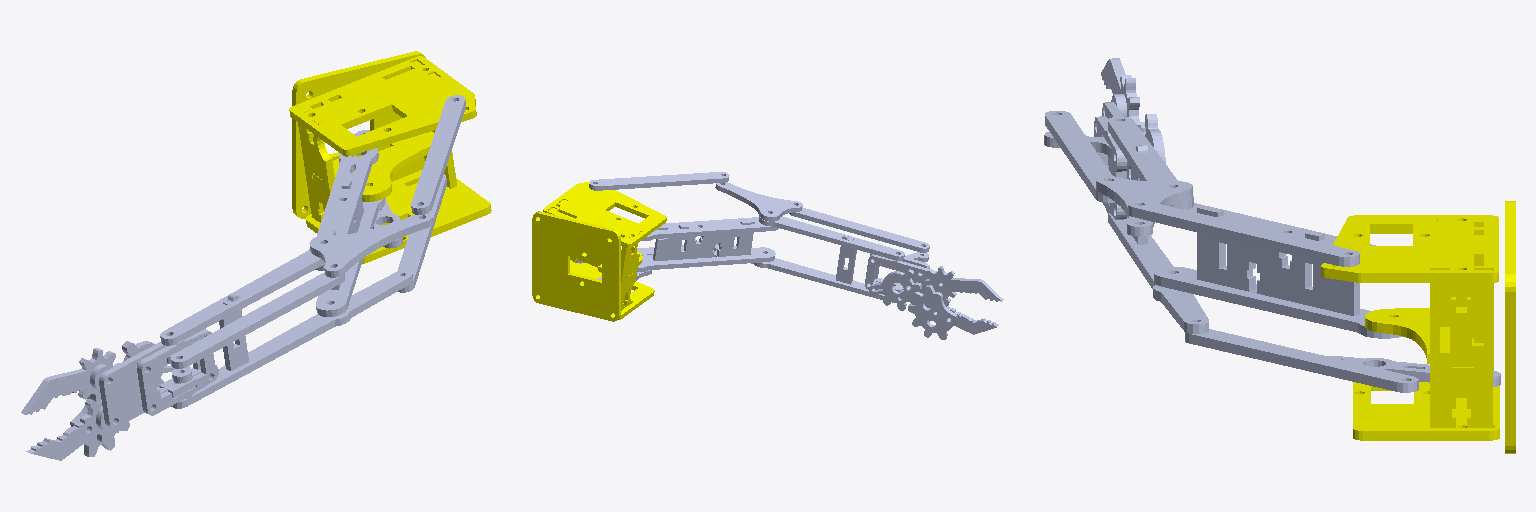
The robot description file, URDF, robot "27URDF ROBOT ARM 4DOF ASSY.SLDASM":
<?xml version="1.0" encoding="utf-8"?>
<!-- This URDF was automatically created by SolidWorks to URDF Exporter! Originally created by [author] ([email redacted]) 
     Commit Version: 1.6.0-4-g7f85cfe  Build Version: 1.6.7995.38578
     For more information, please see http://wiki.ros.org/sw_urdf_exporter -->
<robot
  name="27URDF ROBOT ARM 4DOF ASSY.SLDASM">
  <link
    name="BASE INICIAL">
    <inertial>
      <origin
        xyz="-0.0798549789057355 -0.0269999999999893 0.0435864030122886"
        rpy="0 0 0" />
      <mass
        value="0.00908679690130329" />
      <inertia
        ixx="2.73612316755863E-06"
        ixy="-1.97113011013457E-22"
        ixz="-9.07084976474116E-10"
        iyy="5.39935024141699E-06"
        iyz="8.23337854726788E-23"
        izz="2.67685726921031E-06" />
    </inertial>
    <visual>
      <origin
        xyz="0 0 0"
        rpy="0 0 0" />
      <geometry>
        <mesh
          filename="package://27URDF ROBOT ARM 4DOF ASSY.SLDASM/meshes/BASE INICIAL.STL" />
      </geometry>
      <material
        name="">
        <color
          rgba="1 1 0 1" />
      </material>
    </visual>
    <collision>
      <origin
        xyz="0 0 0"
        rpy="0 0 0" />
      <geometry>
        <mesh
          filename="package://27URDF ROBOT ARM 4DOF ASSY.SLDASM/meshes/BASE INICIAL.STL" />
      </geometry>
    </collision>
  </link>
  <link
    name="LINK_1">
    <inertial>
      <origin
        xyz="0.000387702097878515 -0.00019471799501896 0.0175224067893162"
        rpy="0 0 0" />
      <mass
        value="0.0304519208079881" />
      <inertia
        ixx="6.58798506330231E-06"
        ixy="-5.84616903765165E-07"
        ixz="1.66832315919343E-07"
        iyy="1.03445960653602E-05"
        iyz="2.59537162201257E-08"
        izz="1.11297722031527E-05" />
    </inertial>
    <visual>
      <origin
        xyz="0 0 0"
        rpy="0 0 0" />
      <geometry>
        <mesh
          filename="package://27URDF ROBOT ARM 4DOF ASSY.SLDASM/meshes/LINK_1.STL" />
      </geometry>
      <material
        name="">
        <color
          rgba="1 1 0 1" />
      </material>
    </visual>
    <collision>
      <origin
        xyz="0 0 0"
        rpy="0 0 0" />
      <geometry>
        <mesh
          filename="package://27URDF ROBOT ARM 4DOF ASSY.SLDASM/meshes/LINK_1.STL" />
      </geometry>
    </collision>
  </link>
  <joint
    name="JOIN_1"
    type="revolute">
    <origin
      xyz="-0.0798549789057355 -0.0254999999999893 0.0435864030122886"
      rpy="-1.5707963267949 0 -3.14159265358979" />
    <parent
      link="BASE INICIAL" />
    <child
      link="LINK_1" />
    <axis
      xyz="0 0 1" />
    <limit
      lower="0"
      upper="3.142"
      effort="300"
      velocity="3" />
  </joint>
  <link
    name="LINK_2">
    <inertial>
      <origin
        xyz="0.0113712939819302 0.0014999999999981 -0.00189543961320489"
        rpy="0 0 0" />
      <mass
        value="0.00117913924114897" />
      <inertia
        ixx="1.67102769309711E-08"
        ixy="4.73467188537286E-20"
        ixz="4.61877845057227E-08"
        iyy="3.01046935303028E-07"
        iyz="-7.67954206492934E-21"
        izz="2.8610536723378E-07" />
    </inertial>
    <visual>
      <origin
        xyz="0 0 0"
        rpy="0 0 0" />
      <geometry>
        <mesh
          filename="package://27URDF ROBOT ARM 4DOF ASSY.SLDASM/meshes/LINK_2.STL" />
      </geometry>
      <material
        name="">
        <color
          rgba="0.792156862745098 0.819607843137255 0.933333333333333 1" />
      </material>
    </visual>
    <collision>
      <origin
        xyz="0 0 0"
        rpy="0 0 0" />
      <geometry>
        <mesh
          filename="package://27URDF ROBOT ARM 4DOF ASSY.SLDASM/meshes/LINK_2.STL" />
      </geometry>
    </collision>
  </link>
  <joint
    name="JOIN_2"
    type="revolute">
    <origin
      xyz="0.0122048410537844 0.0202934190538423 0.041494746586289"
      rpy="0 0 -2.9931451270789" />
    <parent
      link="LINK_1" />
    <child
      link="LINK_2" />
    <axis
      xyz="0 -1 0" />
    <limit
      lower="-1.57"
      upper="-0.6"
      effort="200"
      velocity="3" />
  </joint>
  <link
    name="LINK_3">
    <inertial>
      <origin
        xyz="0.042532554657113 -0.010640100019834 -0.0463316475111504"
        rpy="0 0 0" />
      <mass
        value="0.0231946102096903" />
      <inertia
        ixx="5.08910036716424E-06"
        ixy="8.41801632141775E-08"
        ixz="4.92656567774265E-06"
        iyy="1.46251315260081E-05"
        iyz="-7.47900912677268E-08"
        izz="9.92523027124402E-06" />
    </inertial>
    <visual>
      <origin
        xyz="0 0 0"
        rpy="0 0 0" />
      <geometry>
        <mesh
          filename="package://27URDF ROBOT ARM 4DOF ASSY.SLDASM/meshes/LINK_3.STL" />
      </geometry>
      <material
        name="">
        <color
          rgba="0.792156862745098 0.819607843137255 0.933333333333333 1" />
      </material>
    </visual>
    <collision>
      <origin
        xyz="0 0 0"
        rpy="0 0 0" />
      <geometry>
        <mesh
          filename="package://27URDF ROBOT ARM 4DOF ASSY.SLDASM/meshes/LINK_3.STL" />
      </geometry>
    </collision>
  </link>
  <joint
    name="JOIN_3"
    type="revolute">
    <origin
      xyz="0 0.0348452584956312 -0.00493582839009896"
      rpy="-3.11846258809153 0.155318166800095 3.14159265358979" />
    <parent
      link="LINK_2" />
    <child
      link="LINK_3" />
    <axis
      xyz="0 -0.99973251196085 0.0231280031228403" />
    <limit
      lower="0.6"
      upper="1.2"
      effort="200"
      velocity="3" />
  </joint>
  <link
    name="LINK_4">
    <inertial>
      <origin
        xyz="-0.0875540509406057 0.0159099411527551 -0.00119062952313283"
        rpy="0 0 0" />
      <mass
        value="0.00571136043685313" />
      <inertia
        ixx="2.90470935249414E-07"
        ixy="1.68610303064428E-08"
        ixz="1.85632704452051E-08"
        iyy="8.27512779138802E-07"
        iyz="4.4109101978856E-11"
        izz="1.03363657352186E-06" />
    </inertial>
    <visual>
      <origin
        xyz="0 0 0"
        rpy="0 0 0" />
      <geometry>
        <mesh
          filename="package://27URDF ROBOT ARM 4DOF ASSY.SLDASM/meshes/LINK_4.STL" />
      </geometry>
      <material
        name="">
        <color
          rgba="0.792156862745098 0.819607843137255 0.933333333333333 1" />
      </material>
    </visual>
    <collision>
      <origin
        xyz="0 0 0"
        rpy="0 0 0" />
      <geometry>
        <mesh
          filename="package://27URDF ROBOT ARM 4DOF ASSY.SLDASM/meshes/LINK_4.STL" />
      </geometry>
    </collision>
  </link>
  <joint
    name="JOIN_4"
    type="revolute">
    <origin
      xyz="0.0534135251643596 -0.0294789461245163 -0.0592814196590796"
      rpy="-3.11800504381541 -0.156423441595026 3.13794410920918" />
    <parent
      link="LINK_3" />
    <child
      link="LINK_4" />
    <axis
      xyz="0 -0.99999998527642 0.000171601744551923" />
    <limit
      lower="0"
      upper="0"
      effort="200"
      velocity="3" />
  </joint>
  <link
    name="LINK_5">
    <inertial>
      <origin
        xyz="0.00280139349753589 -0.00160481543317919 0.00878237356084953"
        rpy="0 0 0" />
      <mass
        value="0.00299760582356404" />
      <inertia
        ixx="1.23731232974342E-07"
        ixy="5.25514701412817E-08"
        ixz="-1.41074251452772E-14"
        iyy="2.55847034252555E-07"
        iyz="-1.26921063055235E-14"
        izz="3.75081900133715E-07" />
    </inertial>
    <visual>
      <origin
        xyz="0 0 0"
        rpy="0 0 0" />
      <geometry>
        <mesh
          filename="package://27URDF ROBOT ARM 4DOF ASSY.SLDASM/meshes/LINK_5.STL" />
      </geometry>
      <material
        name="">
        <color
          rgba="0.792156862745098 0.819607843137255 0.933333333333333 1" />
      </material>
    </visual>
    <collision>
      <origin
        xyz="0 0 0"
        rpy="0 0 0" />
      <geometry>
        <mesh
          filename="package://27URDF ROBOT ARM 4DOF ASSY.SLDASM/meshes/LINK_5.STL" />
      </geometry>
    </collision>
  </link>
  <joint
    name="JOIN_5"
    type="revolute">
    <origin
      xyz="-0.11128 0.0065 -0.00024628"
      rpy="-3.1415 0.00053801 2.9931" />
    <parent
      link="LINK_4" />
    <child
      link="LINK_5" />
    <axis
      xyz="0 0 -1" />
    <limit
      lower="-0.2"
      upper="1.5"
      effort="100"
      velocity="3" />
  </joint>
  <link
    name="LINK_6">
    <inertial>
      <origin
        xyz="-0.00817531877179817 -7.98426266034498E-05 0.00557835556920025"
        rpy="0 0 0" />
      <mass
        value="0.00152555597711324" />
      <inertia
        ixx="2.28014132243107E-08"
        ixy="3.29486868291852E-09"
        ixz="-6.9927962271591E-15"
        iyy="1.93606680528622E-07"
        iyz="4.88359080337196E-16"
        izz="2.14119813112313E-07" />
    </inertial>
    <visual>
      <origin
        xyz="0 0 0"
        rpy="0 0 0" />
      <geometry>
        <mesh
          filename="package://27URDF ROBOT ARM 4DOF ASSY.SLDASM/meshes/LINK_6.STL" />
      </geometry>
      <material
        name="">
        <color
          rgba="0.792156862745098 0.819607843137255 0.933333333333333 1" />
      </material>
    </visual>
    <collision>
      <origin
        xyz="0 0 0"
        rpy="0 0 0" />
      <geometry>
        <mesh
          filename="package://27URDF ROBOT ARM 4DOF ASSY.SLDASM/meshes/LINK_6.STL" />
      </geometry>
    </collision>
  </link>
  <joint
    name="JOIN_6"
    type="revolute">
    <origin
      xyz="-0.11128 0.0245 -0.0017494"
      rpy="3.1415 -0.00053801 -0.14845" />
    <parent
      link="LINK_4" />
    <child
      link="LINK_6" />
    <axis
      xyz="0 0 -1" />
    <limit
      lower="-1.5"
      upper="0.2"
      effort="100"
      velocity="3" />
  </joint>
</robot>

--- Facts derived from the render (not from the file) ---
3 views of the same robot in one strip: view 1: azimuth 30°, elevation 25°; view 2: azimuth 150°, elevation 25°; view 3: azimuth 270°, elevation 25° (orthographic).
Robot: 27URDF ROBOT ARM 4DOF ASSY.SLDASM — 7 links, 6 joints (6 revolute); root link BASE INICIAL; default pose: joints at zero except 2 at the middle of their limits (JOIN_2 = -1.08, JOIN_3 = 0.9).
Visible links, largest first — view 1: LINK_3, LINK_1, LINK_4, BASE INICIAL, LINK_5, LINK_6; view 2: LINK_3, BASE INICIAL, LINK_1, LINK_4, LINK_5, LINK_6; view 3: LINK_3, LINK_1, BASE INICIAL, LINK_4, LINK_6, LINK_2.
Link boxes in pixels (x1,y1,x2,y2): LINK_3: [160, 95, 465, 408]; LINK_1: [289, 56, 491, 263]; LINK_4: [99, 329, 218, 427]; BASE INICIAL: [292, 51, 424, 218]; LINK_5: [26, 395, 129, 460]; LINK_6: [21, 348, 115, 414]; LINK_3: [573, 172, 929, 302]; BASE INICIAL: [532, 211, 620, 321]; LINK_1: [532, 182, 666, 321]; LINK_4: [865, 252, 948, 310]; LINK_5: [908, 285, 998, 339]; LINK_6: [924, 266, 1003, 301]; LINK_3: [1045, 111, 1418, 392]; LINK_1: [1321, 215, 1515, 440]; BASE INICIAL: [1505, 201, 1515, 453]; LINK_4: [1044, 102, 1165, 219]; LINK_6: [1101, 58, 1140, 129]; LINK_2: [1328, 356, 1500, 386].
Bounding box of the posed robot: 0.2512 × 0.1387 × 0.0802 m (x, y, z).
Meshes: 7 distinct files referenced, 7 mesh visuals loaded (7 binary STL).